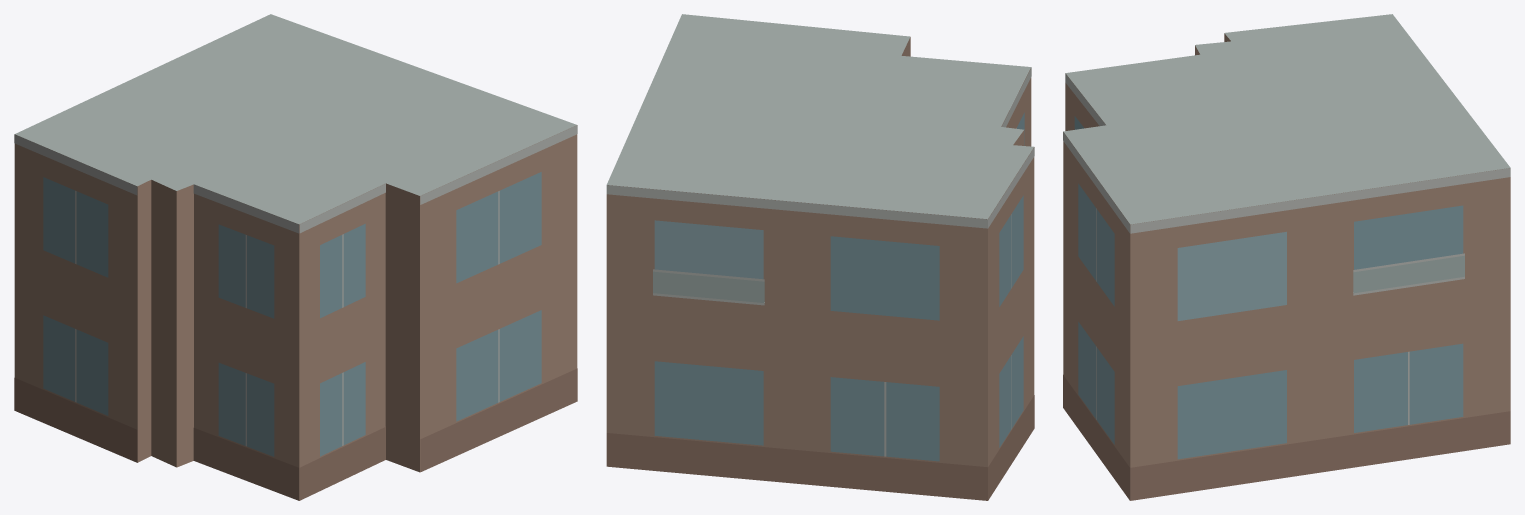
The model's file is survey-upis-32997509.glb.
The picture shows the model from 3 angles, left to right: view 1: azimuth 30°, elevation 25°; view 2: azimuth 150°, elevation 25°; view 3: azimuth 270°, elevation 25°; orthographic projection.
Visible parts, largest first — view 1: survey-upis-32997509.tmp; view 2: survey-upis-32997509.tmp; view 3: survey-upis-32997509.tmp.
Boxes of the visible parts, box(x1,y1,x2,y2) form: survey-upis-32997509.tmp: box(14, 14, 577, 500); survey-upis-32997509.tmp: box(606, 14, 1034, 500); survey-upis-32997509.tmp: box(1063, 14, 1510, 500).
Size of the model in its own units: 11.93 by 7.3 by 10.72.
